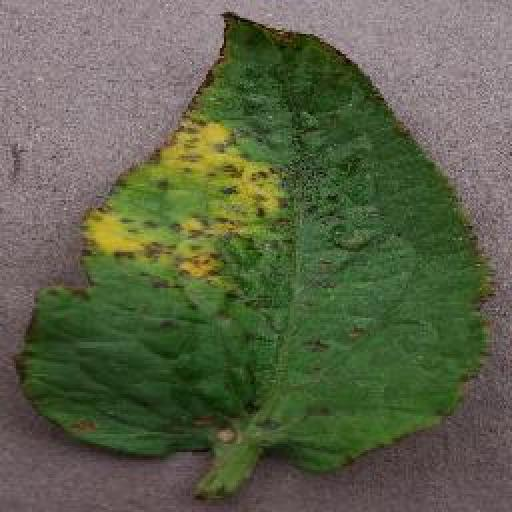Bacterial Spot: (14, 4, 498, 476)
